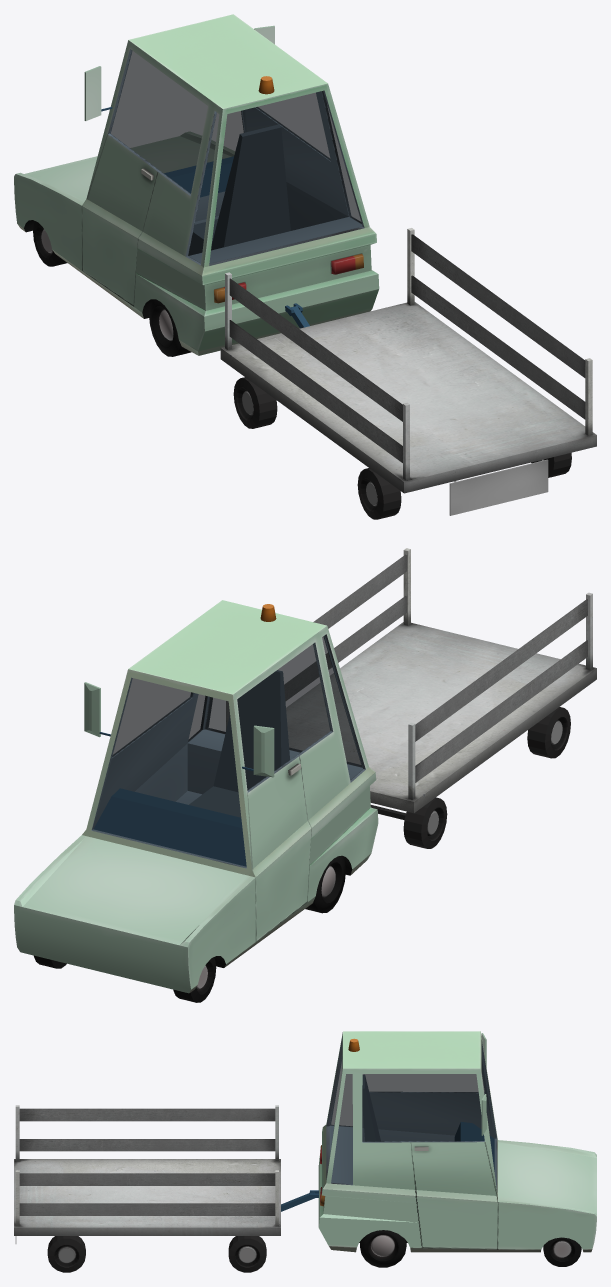
The model's file is car.FBX.
3 renders of one model, top to bottom at view 1: azimuth 30°, elevation 25°; view 2: azimuth 150°, elevation 25°; view 3: azimuth 270°, elevation 25°, orthographic. The views are drawn at different scales.
Parts seen in each view (by area): view 1: Line002, Box006, Box014, Object036, Object026, Cylinder015, Object034; view 2: Line002, Box006, Object026, Object036, Cylinder015, Object034; view 3: Line002, Box006, Object026, Cylinder015, Object036, Object035.
Boxes of the visible parts, x1,y1,x2,y2 form: Line002: [14, 14, 379, 355]; Box006: [220, 228, 596, 493]; Box014: [449, 459, 548, 515]; Object036: [357, 452, 571, 519]; Object026: [233, 303, 309, 428]; Cylinder015: [149, 299, 191, 356]; Object034: [33, 221, 66, 266]; Line002: [14, 600, 378, 993]; Box006: [226, 548, 596, 813]; Object026: [370, 797, 447, 848]; Object036: [527, 707, 570, 758]; Cylinder015: [305, 855, 345, 913]; Object034: [173, 957, 216, 1002]; Line002: [318, 1031, 596, 1252]; Box006: [14, 1105, 280, 1235]; Object026: [228, 1190, 318, 1272]; Cylinder015: [360, 1230, 406, 1267]; Object036: [47, 1236, 85, 1272]; Object035: [543, 1237, 581, 1266].
Bounding box in the file's own units: 42.28 × 57.01 × 152.
